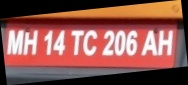character: (6, 29, 24, 55), (141, 30, 158, 56), (22, 29, 37, 55), (82, 29, 97, 55), (52, 29, 66, 55), (158, 29, 172, 55), (70, 29, 83, 56), (101, 29, 114, 55), (113, 29, 125, 56), (125, 30, 137, 56), (43, 29, 53, 55)
